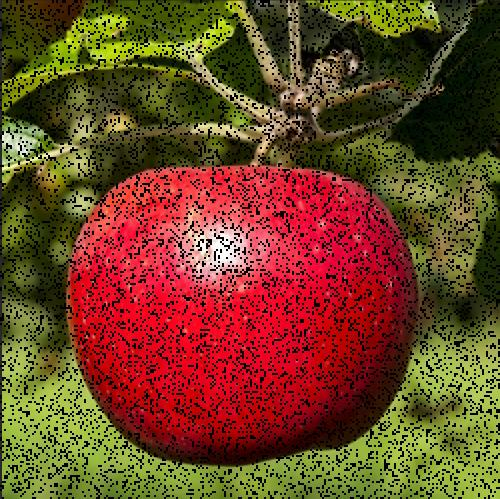apple: (64, 162, 420, 468)
